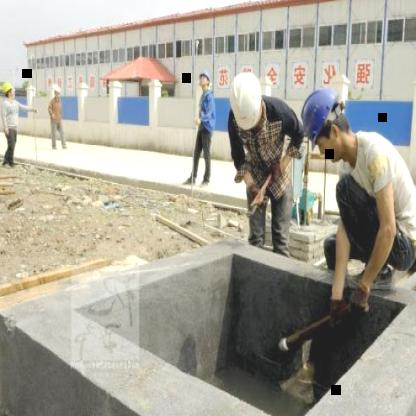helmet: (298, 86, 344, 151), (225, 69, 270, 134)
